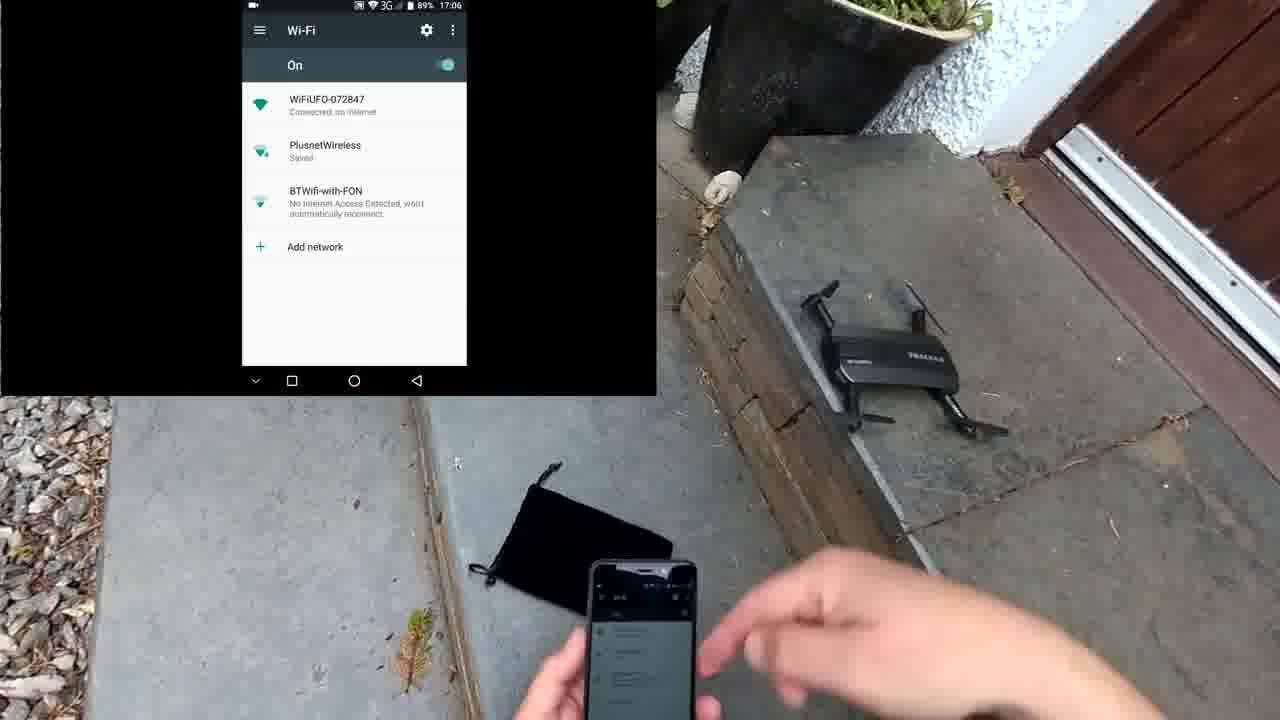drone: (776, 277, 1024, 463)
